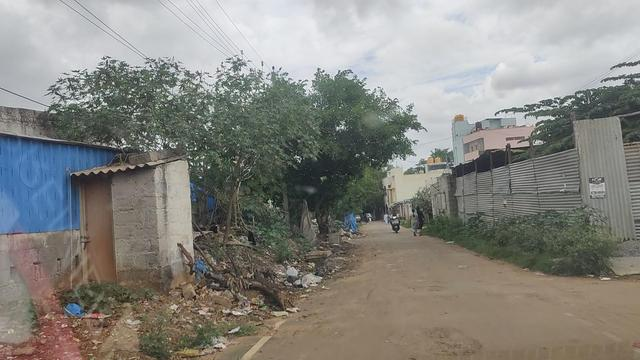RoadDamages: (390, 321, 478, 360)
